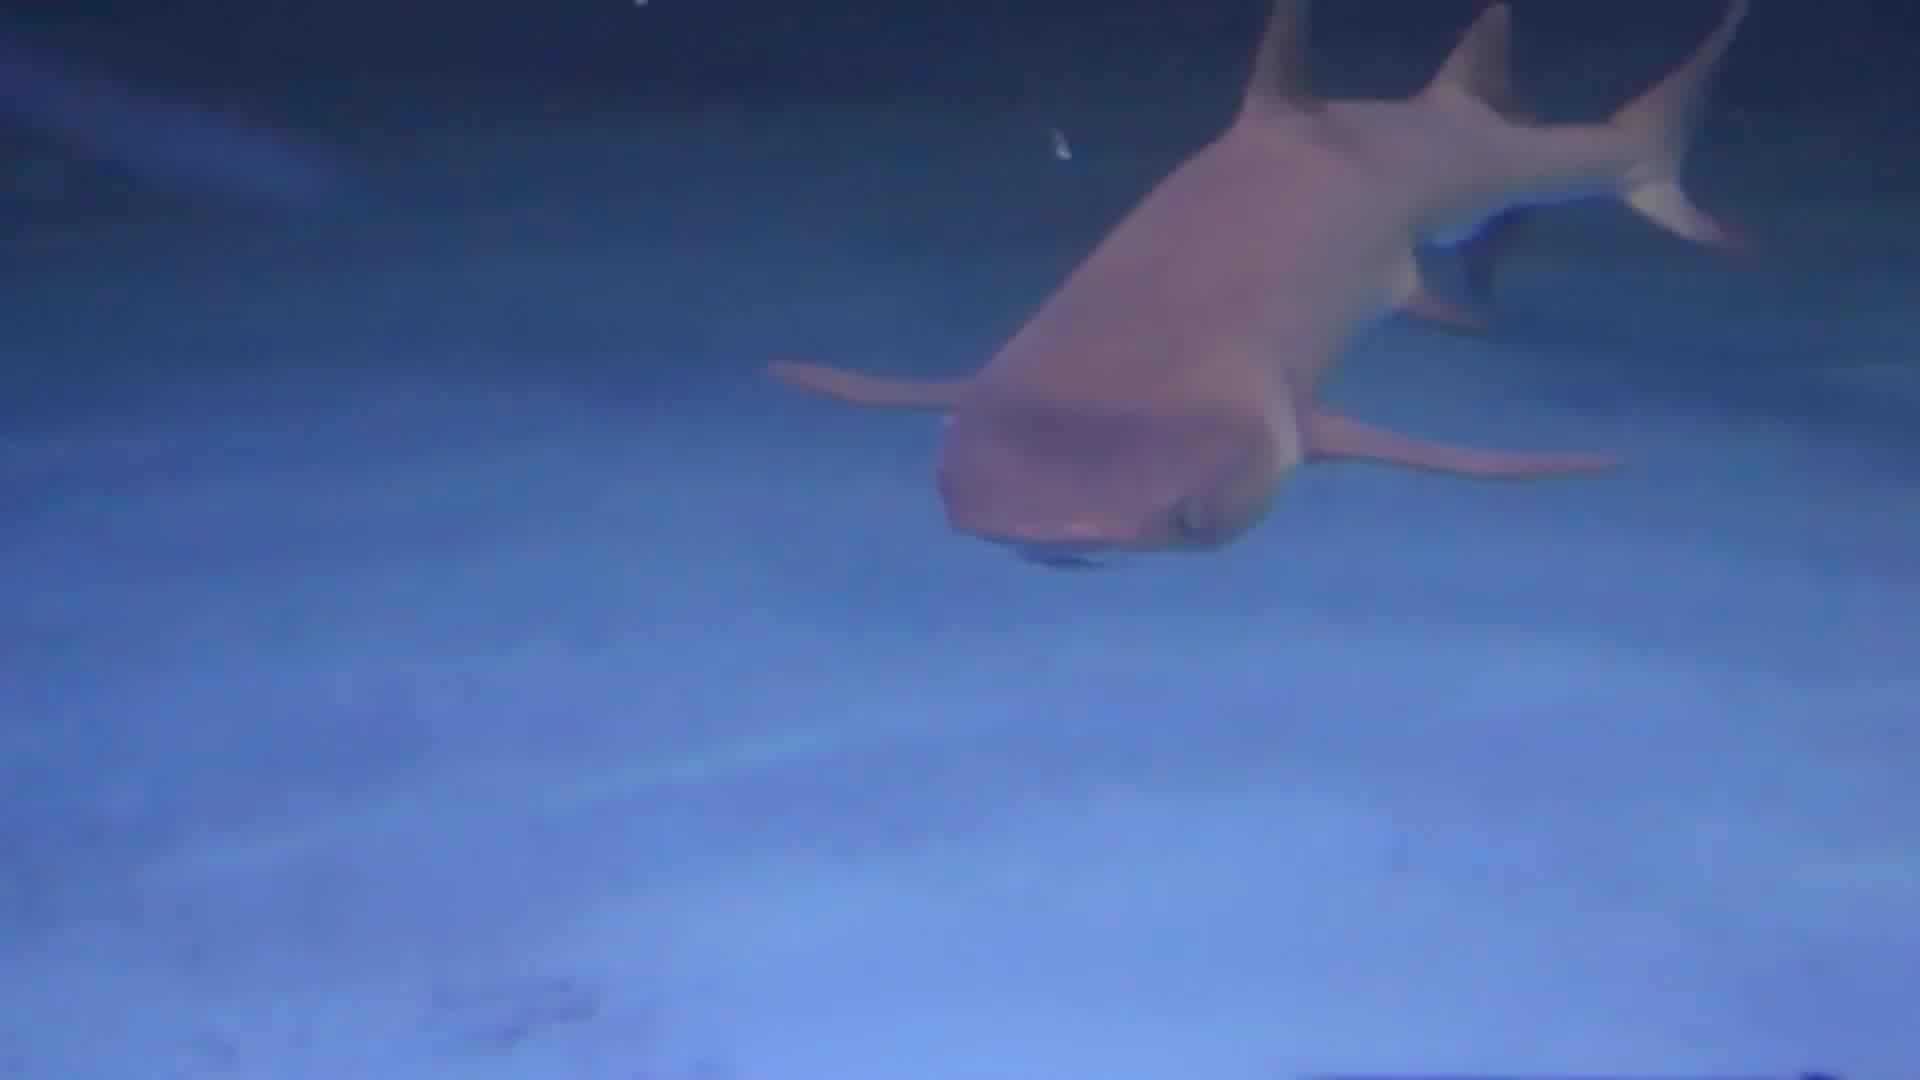Triaenodon obesus: (778, 1, 1830, 713)
